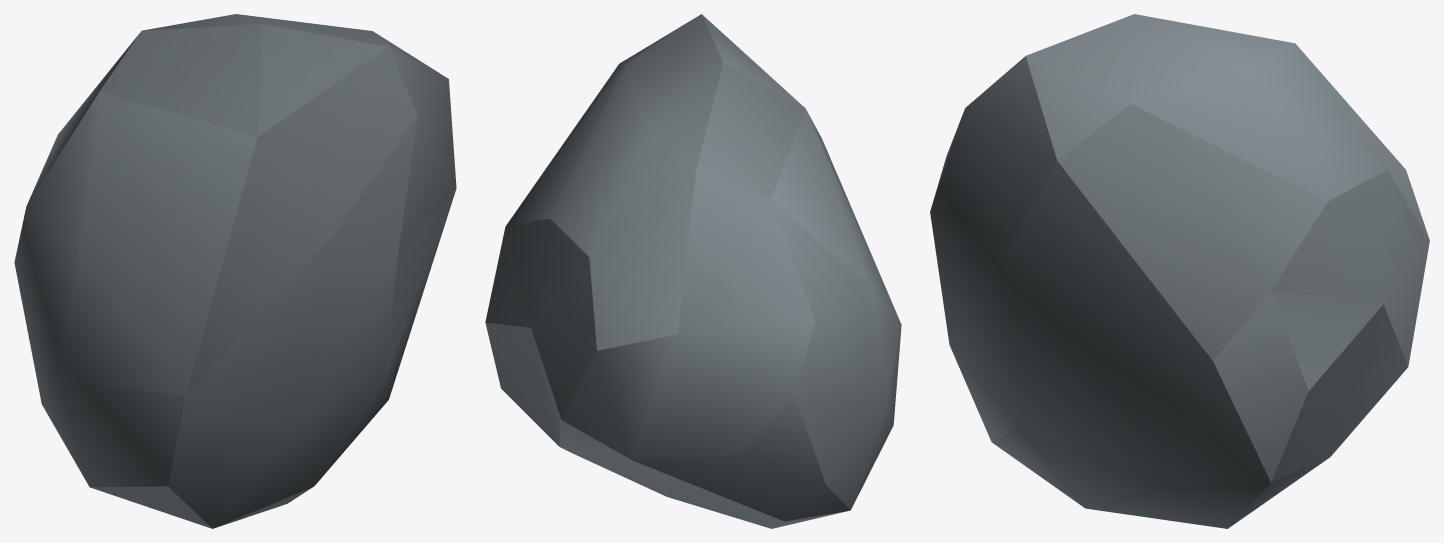
Rendered from Rock_3_E_Color1.glb.
3 views of the same model, side by side, from view 1: azimuth 30°, elevation 25°; view 2: azimuth 150°, elevation 25°; view 3: azimuth 270°, elevation 25° (orthographic). The views are drawn at different scales.
Parts seen in each view (by area): view 1: Rock_3_E_Color1; view 2: Rock_3_E_Color1; view 3: Rock_3_E_Color1.
Boxes of the visible parts, bbox=[...] form: Rock_3_E_Color1: bbox=[14, 14, 456, 528]; Rock_3_E_Color1: bbox=[485, 14, 901, 528]; Rock_3_E_Color1: bbox=[930, 14, 1429, 528].
Bounding box in the file's own units: 1.15 × 1.29 × 1.18.
1 material, 1 textured.
